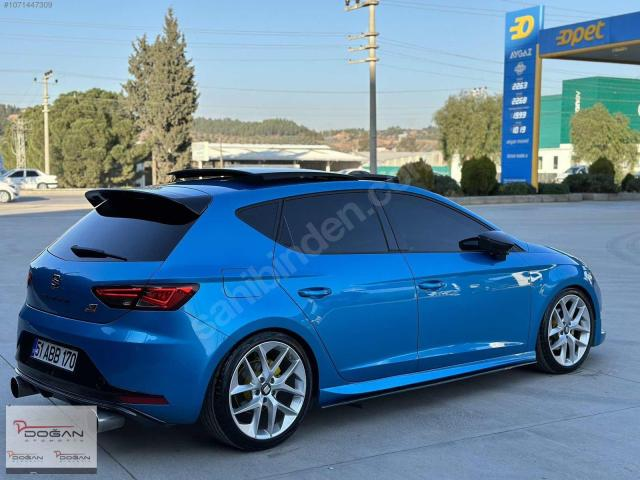plaka: (31, 338, 78, 370)
